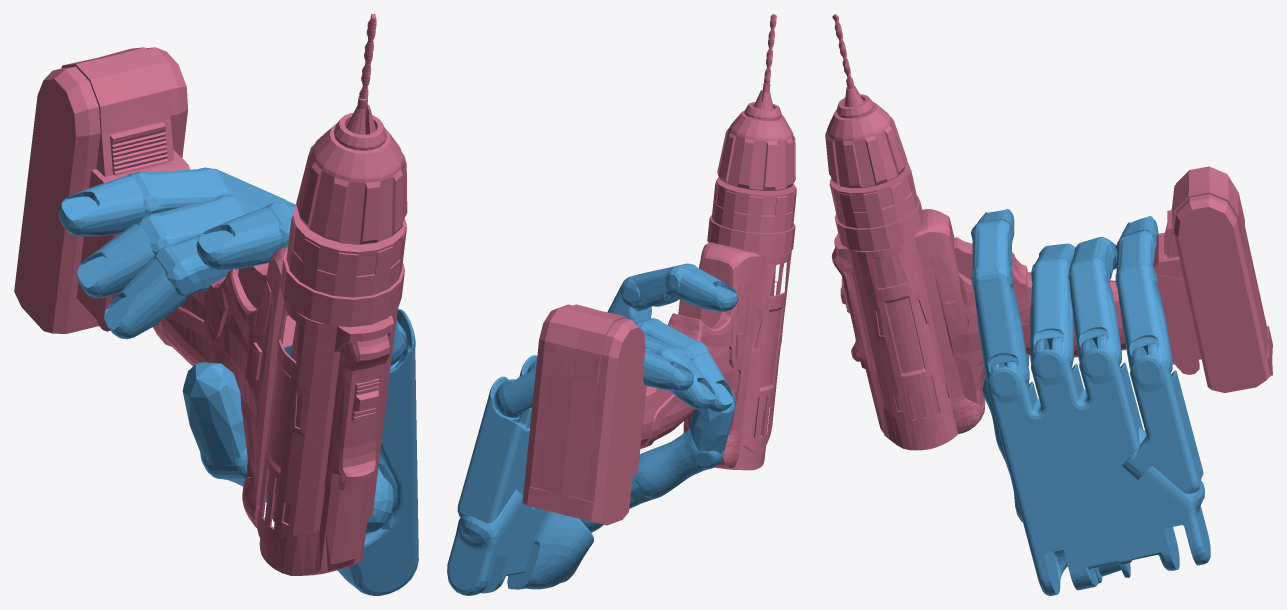
3 renders of one model, left to right at view 1: azimuth 30°, elevation 25°; view 2: azimuth 150°, elevation 25°; view 3: azimuth 270°, elevation 25°, orthographic. The views are drawn at different scales.
Parts seen in each view (by area): view 1: 11; view 2: 11; view 3: 11.
Boxes of the visible parts, x1,y1,x2,y2 form: 11: (14,14,418,595); 11: (447,14,796,595); 11: (825,14,1272,595).
Size of the model in its own units: 0.1176 by 0.2636 by 0.2047.
